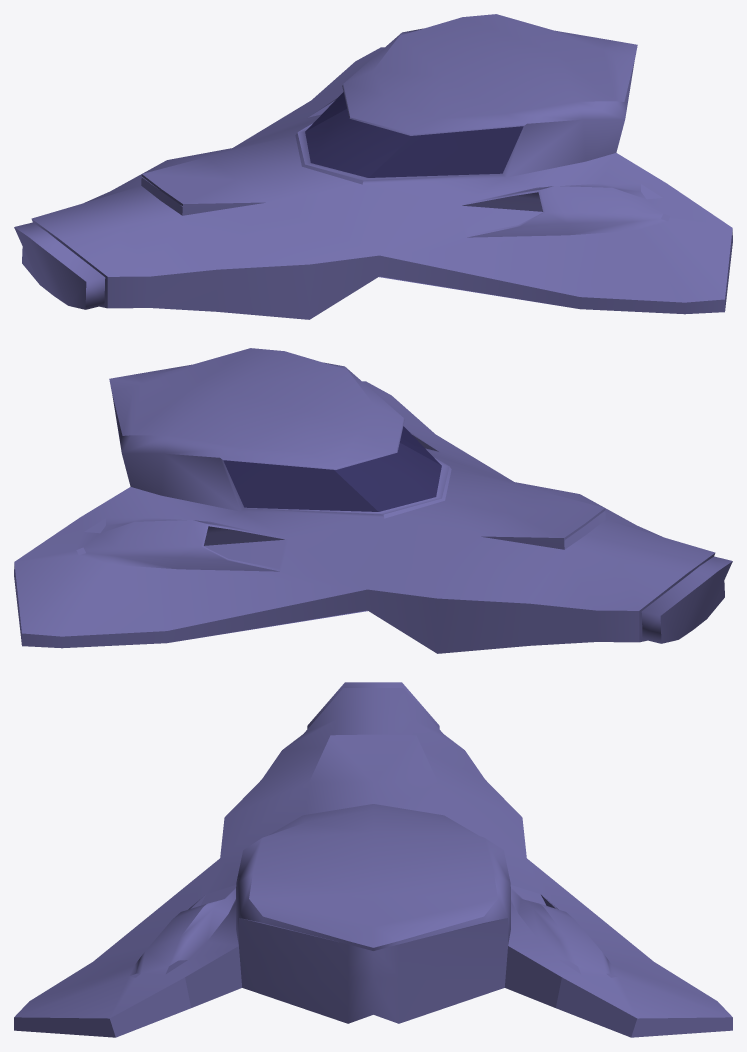
The model's file is Nav_Blue.fbx.
3 views of the same model, one above another, from view 1: azimuth 30°, elevation 25°; view 2: azimuth 150°, elevation 25°; view 3: azimuth 270°, elevation 25° (orthographic). The views are drawn at different scales.
Visible parts, largest first — view 1: Nav_Blue; view 2: Nav_Blue; view 3: Nav_Blue.
Boxes of the visible parts, x1=… form: Nav_Blue: x1=14, y1=14, x2=732, y2=319; Nav_Blue: x1=14, y1=348, x2=732, y2=653; Nav_Blue: x1=14, y1=682, x2=732, y2=1037.
Bounding box in the file's own units: 5.5 × 1.23 × 5.38.
